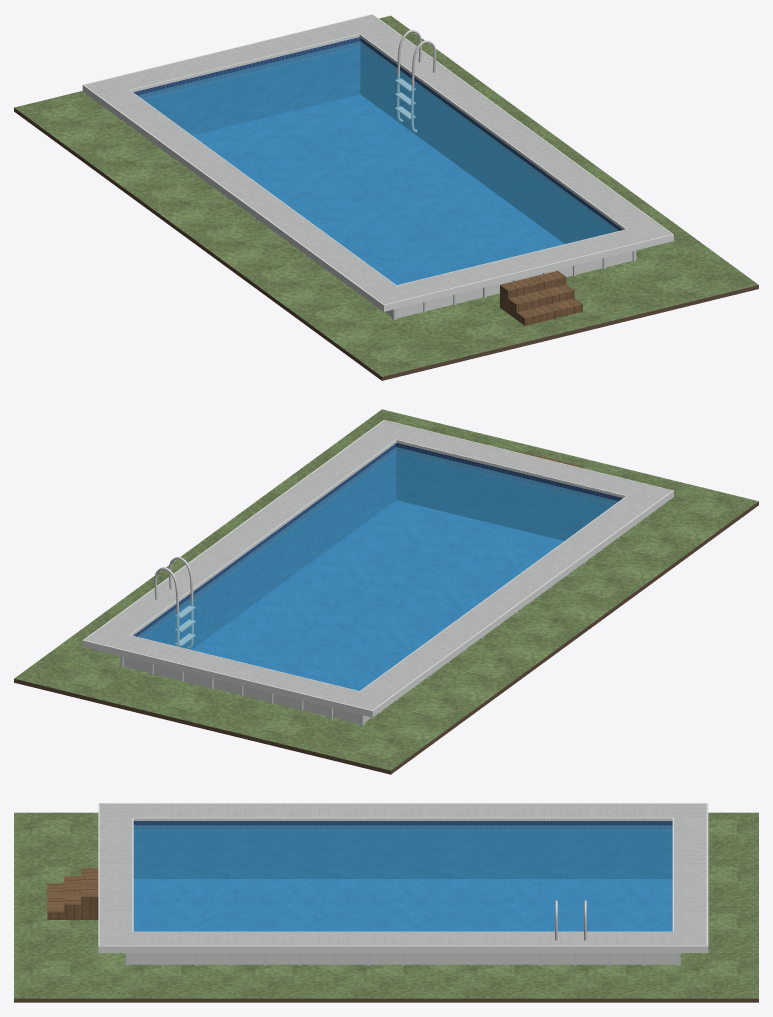
Rendered from kayak-pool-16x32-white-walk-rec-nofence.582b97bc7f.glb.
The picture shows the model from 3 angles, top to bottom: view 1: azimuth 30°, elevation 25°; view 2: azimuth 150°, elevation 25°; view 3: azimuth 270°, elevation 25°; orthographic projection.
Visible parts, largest first — view 1: water, ground, liner_floor, liner_wall, deck, fascia, soil, steps, wall, steel; view 2: water, ground, liner_floor, liner_wall, deck, fascia, soil, wall, steel; view 3: water, ground, liner_wall, liner_floor, deck, fascia, wall, soil, steps, upright.
Boxes of the visible parts, <box> form: water: <box>138,41,618,284</box>; ground: <box>14,15,758,376</box>; liner_floor: <box>192,94,564,284</box>; liner_wall: <box>133,37,622,243</box>; deck: <box>85,15,671,304</box>; fascia: <box>82,14,673,311</box>; soil: <box>14,108,758,380</box>; steps: <box>500,271,582,325</box>; wall: <box>385,251,632,318</box>; steel: <box>395,29,436,132</box>; water: <box>137,447,618,690</box>; ground: <box>14,409,758,770</box>; liner_floor: <box>192,500,563,690</box>; liner_wall: <box>133,443,622,649</box>; deck: <box>85,421,670,710</box>; fascia: <box>82,420,673,717</box>; soil: <box>14,501,758,774</box>; wall: <box>123,657,371,723</box>; steel: <box>154,557,195,648</box>; water: <box>133,825,672,931</box>; ground: <box>14,812,758,998</box>; liner_wall: <box>133,821,672,878</box>; liner_floor: <box>133,879,672,931</box>; deck: <box>99,804,706,945</box>; fascia: <box>98,803,708,952</box>; wall: <box>129,953,676,964</box>; soil: <box>14,998,758,1002</box>; steps: <box>47,868,98,919</box>; upright: <box>125,953,680,965</box>.
Bounding box in the file's own units: 7.92 × 1.9 × 13.4.
Materials: 12 (5 with a texture image).
